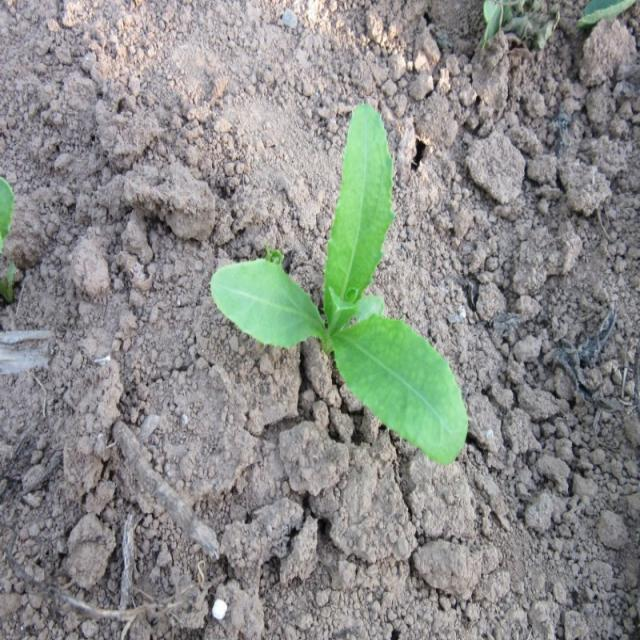cs: (209, 100, 469, 468)
